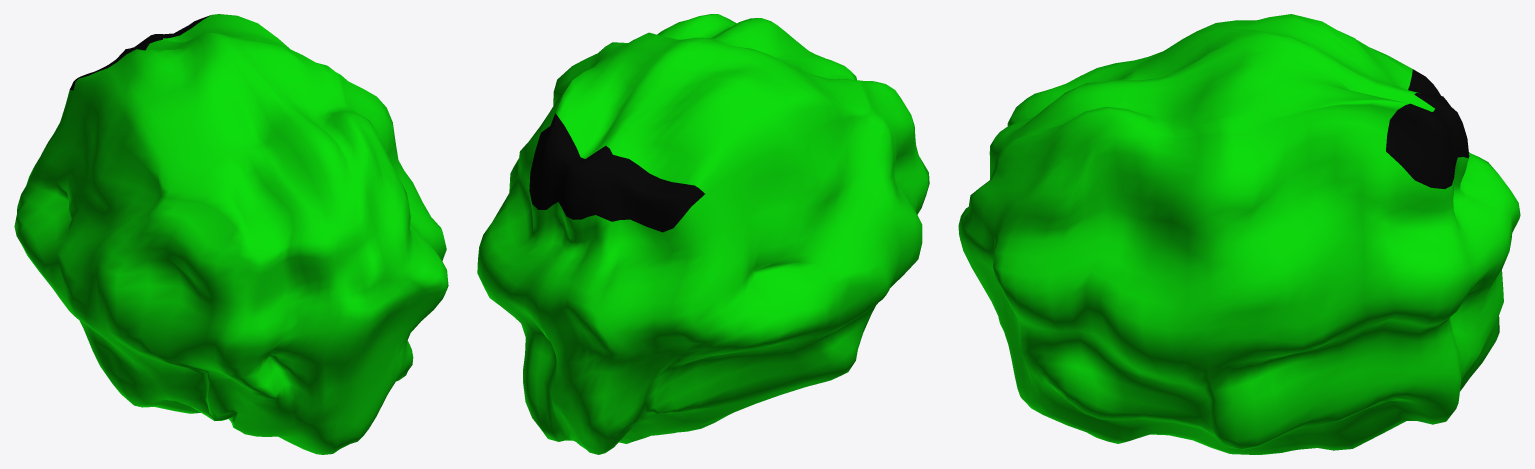
The model's file is cloudhairTest.fbx.
3 views of the same model, side by side, from view 1: azimuth 30°, elevation 25°; view 2: azimuth 150°, elevation 25°; view 3: azimuth 270°, elevation 25° (orthographic). The views are drawn at different scales.
Parts seen in each view (by area): view 1: pCube2; view 2: pCube2; view 3: pCube2.
Part boxes in pixels (bbox=[...]): pCube2: bbox=[14, 14, 448, 454]; pCube2: bbox=[477, 14, 929, 454]; pCube2: bbox=[958, 14, 1520, 454].
Size of the model in its own units: 10.07 by 10.11 by 13.13.
